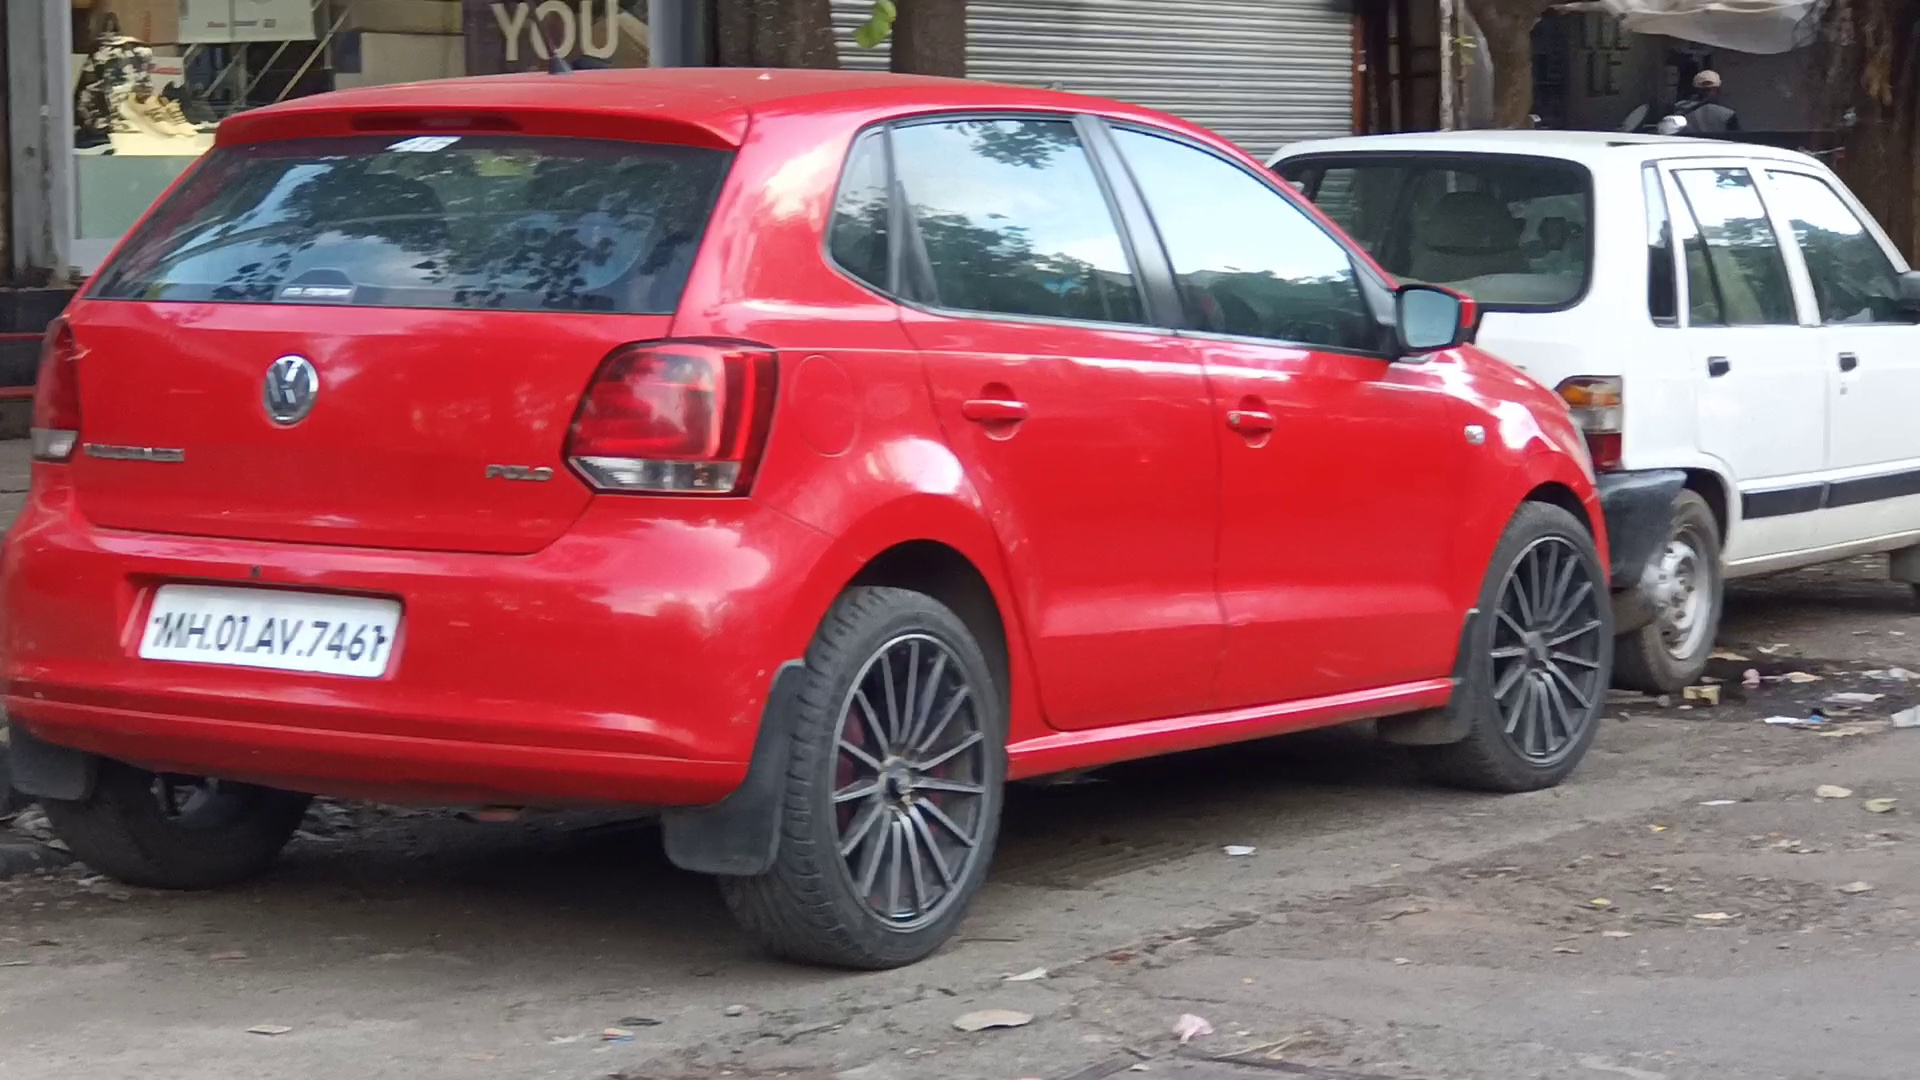MH01AV7461: (141, 582, 398, 678)
